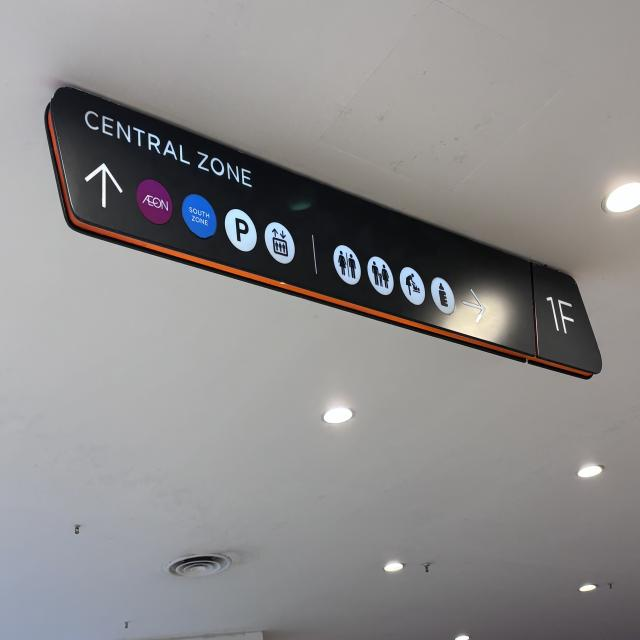lift_icon: (268, 226, 291, 264)
toilet_icon: (335, 247, 359, 287)
